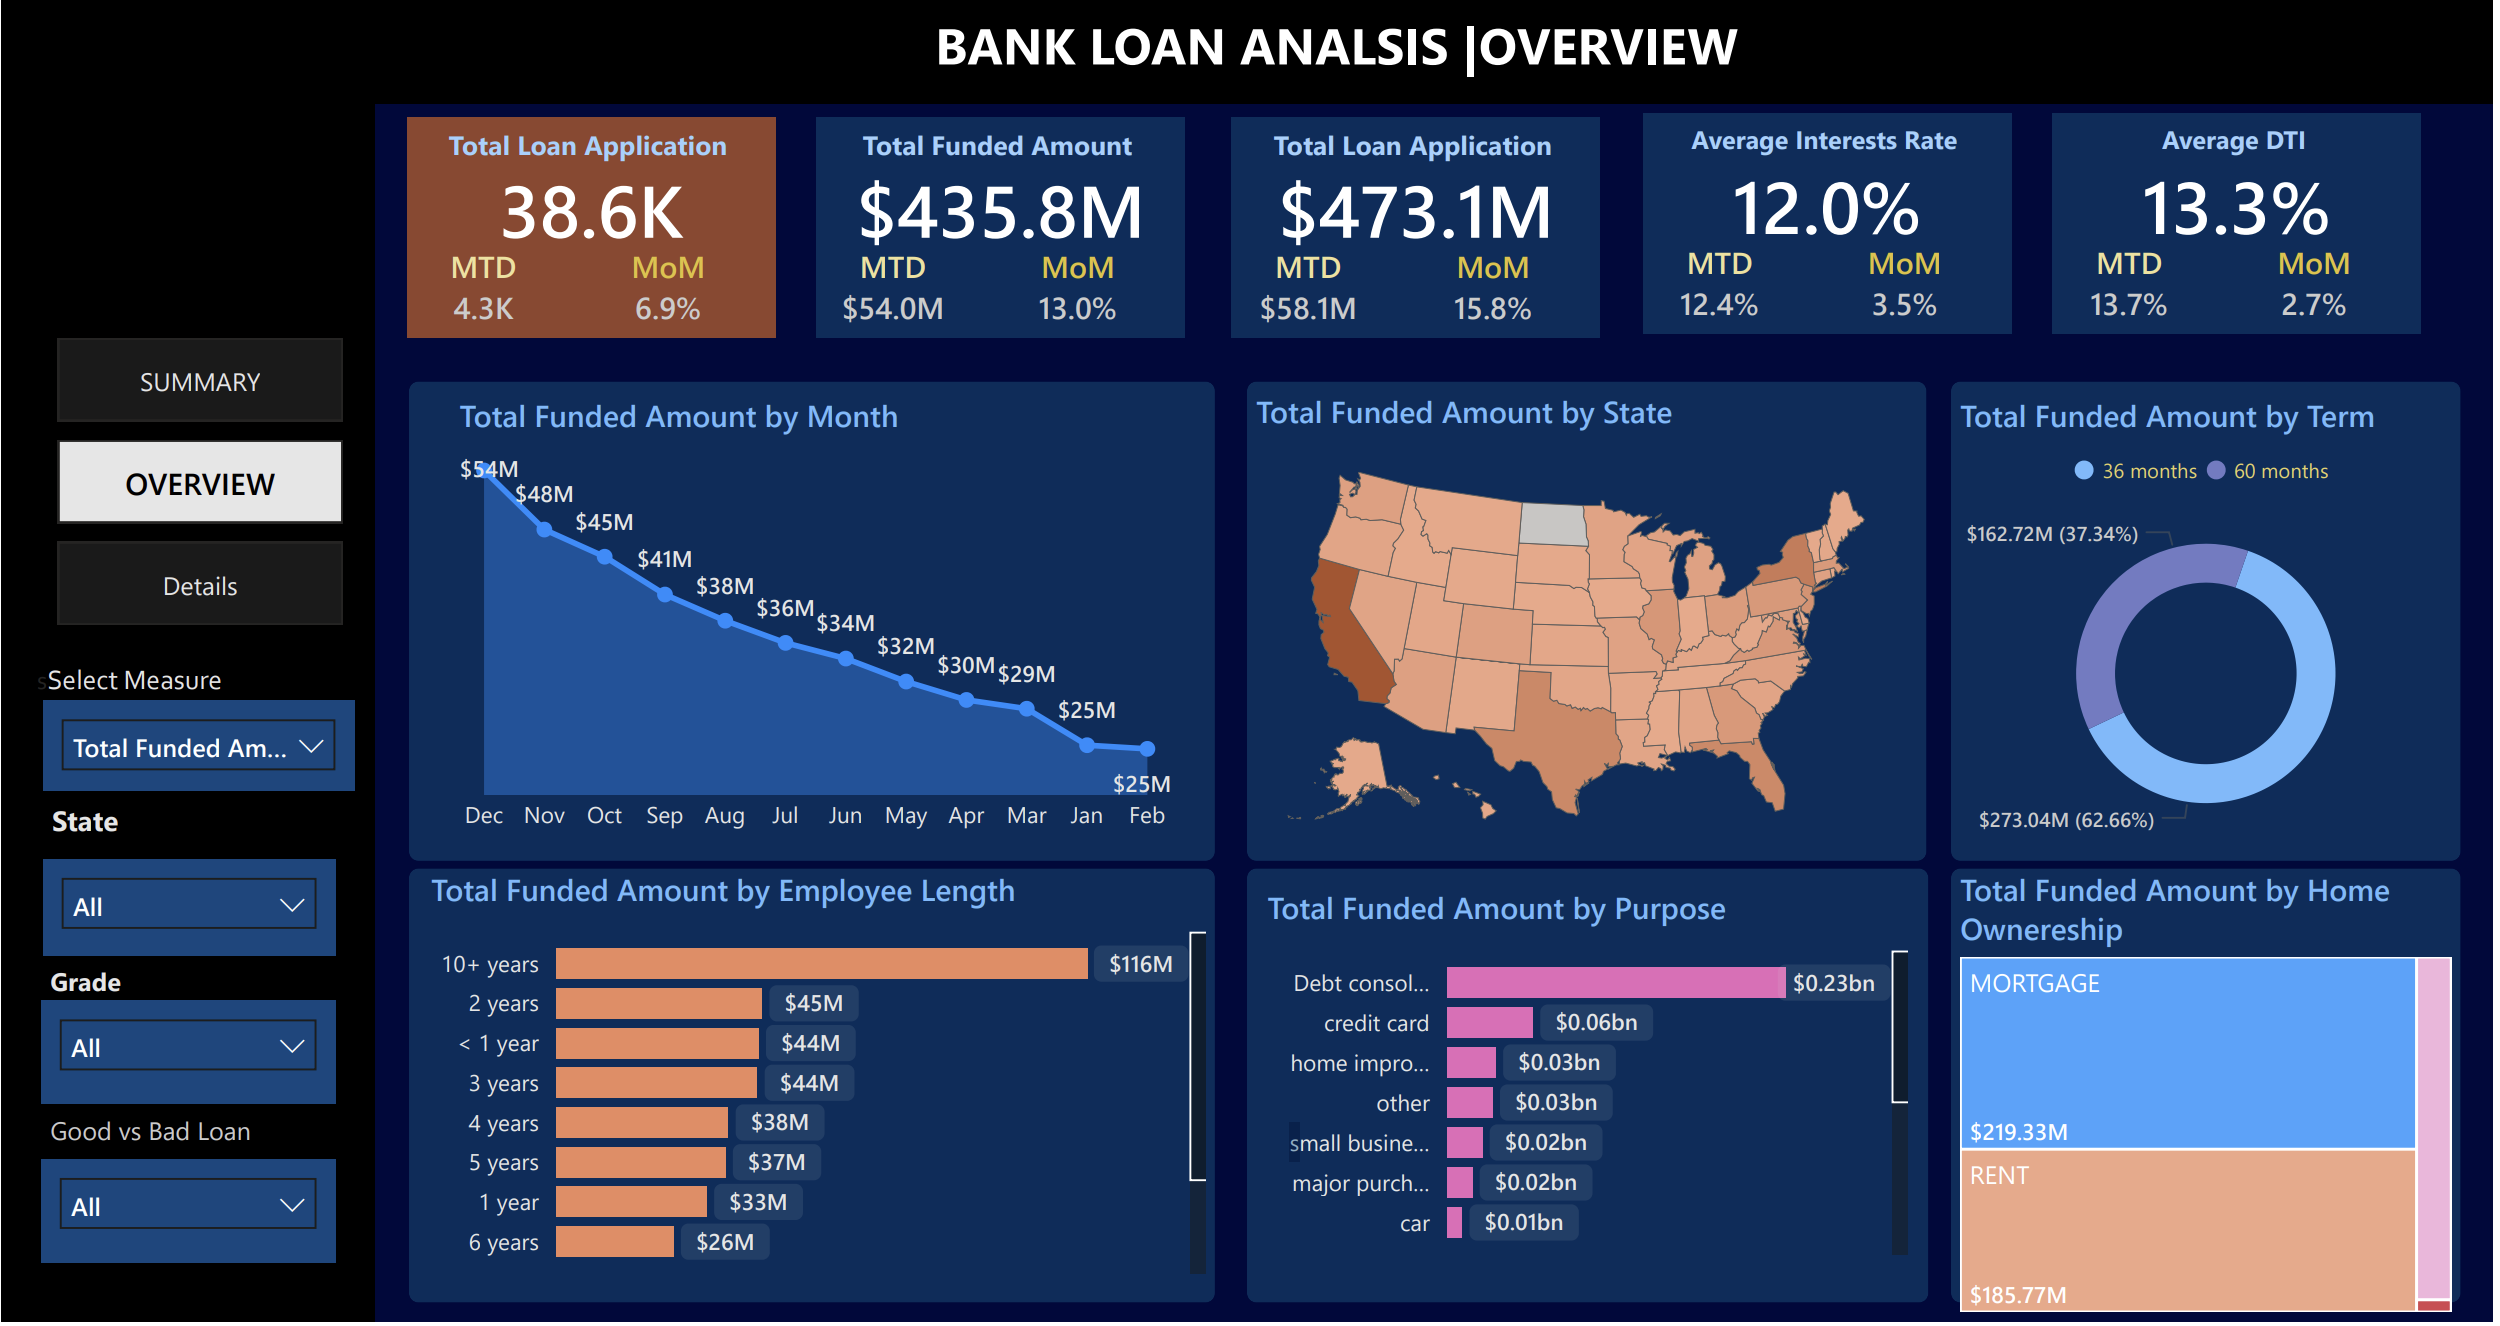

This screenshot's page, from the dashboard's own definition file:
{"tool":"powerbi","page":{"name":"OVERVIEW","canvas":[1320,700],"ordinal":1},"visuals":[{"type":"shape","box":[0,0,1319.9,54.8],"z":0},{"type":"shape","box":[0,0,198.2,700],"z":1000},{"type":"shape","box":[215.7,201.5,427.2,254.1],"z":2000},{"type":"textbox","box":[468.4,0,478.6,65.1],"z":3000},{"type":"shape","box":[870.1,60.4,195,117],"z":3000,"group":"g3"},{"type":"shape","box":[1086.5,60.4,195,117],"z":3000,"group":"g4"},{"type":"shape","box":[431.5,61.8,195,117],"z":3000,"group":"g1"},{"type":"shape","box":[652.2,61.8,195,117],"z":3000,"group":"g2"},{"type":"shape","box":[215.1,61.8,195,117],"z":4000},{"type":"card","fields":{"Values":["financial_loan.Avrage Interest Rate"]},"box":[870.1,79.2,195.2,59.3],"z":4000,"group":"g3"},{"type":"card","fields":{"Values":["financial_loan.Avg DTI"]},"box":[1086.5,79.2,195.2,59.3],"z":4000,"group":"g4"},{"type":"card","fields":{"Values":["financial_loan.totala loan amount"]},"box":[431.5,80.6,195.2,59.3],"z":4000,"group":"g1"},{"type":"card","fields":{"Values":["financial_loan.Total Amount Recived"]},"box":[652.2,80.6,195.2,59.3],"z":4000,"group":"g2"},{"type":"textbox","box":[877.3,60.4,177.8,36.1],"z":5000,"group":"g3"},{"type":"textbox","box":[1093.7,60.4,177.8,36.1],"z":5000,"group":"g4"},{"type":"textbox","box":[438.7,61.8,177.8,36.1],"z":5000,"group":"g1"},{"type":"textbox","box":[659.4,61.8,177.8,36.1],"z":5000,"group":"g2"},{"type":"card","fields":{"Values":["financial_loan.Total Loan Applicaton"]},"box":[215.1,80.6,195.2,59.3],"z":5000},{"type":"group","id":"g1","title":"Group 1","box":[431.5,61.8,195.4,116.7],"z":6000},{"type":"card","title":"MTD","fields":{"Values":["financial_loan.MTD Average Interest Rate"]},"box":[870.1,128.4,81,49.2],"z":6000,"group":"g3"},{"type":"card","title":"MTD","fields":{"Values":["financial_loan.MTD Avg DTI"]},"box":[1086.5,128.4,81,49.2],"z":6000,"group":"g4"},{"type":"card","title":"MTD","fields":{"Values":["financial_loan.MTD Funded Amount"]},"box":[431.5,129.8,81,49.2],"z":6000,"group":"g1"},{"type":"card","title":"MTD","fields":{"Values":["financial_loan.MTD Total Amount Recived"]},"box":[652.2,129.8,81,49.2],"z":6000,"group":"g2"},{"type":"textbox","box":[222.3,61.8,177.8,36.1],"z":7000},{"type":"card","title":"MoM","fields":{"Values":["financial_loan.MOM AVg int rate"]},"box":[968.4,128.4,81,49.2],"z":7000,"group":"g3"},{"type":"card","title":"MoM","fields":{"Values":["financial_loan.MOM Avg DTI"]},"box":[1184.8,128.4,81,49.2],"z":7000,"group":"g4"},{"type":"card","title":"MoM","fields":{"Values":["financial_loan.MoM Total Funded Amount"]},"box":[529.8,129.8,81,49.2],"z":7000,"group":"g1"},{"type":"card","title":"MoM","fields":{"Values":["financial_loan.MOM Total Amount Recived"]},"box":[750.5,129.8,81,49.2],"z":7000,"group":"g2"},{"type":"card","title":"MTD","fields":{"Values":["financial_loan.MTD Loan Application"]},"box":[215.1,129.8,81,49.2],"z":8000},{"type":"group","id":"g2","title":"Group 1","box":[652.2,61.8,195.4,116.7],"z":9000},{"type":"card","title":"MoM","fields":{"Values":["financial_loan.MOM Loan Application"]},"box":[313.4,129.8,81,49.2],"z":10000},{"type":"group","id":"g3","title":"Group 1","box":[870.1,60.4,195.4,118.1],"z":11000},{"type":"group","id":"g4","title":"Group 1","box":[1086.5,60.4,195.4,118.1],"z":12000},{"type":"slicer","fields":{"Values":["financial_loan.address_state"]},"box":[22.5,455.4,154.6,50.6],"z":13000},{"type":"textbox","box":[22.5,418.9,64.7,40.8],"z":14000},{"type":"slicer","fields":{"Values":["financial_loan.grade"]},"box":[21.1,529.9,156,54.8],"z":15000},{"type":"slicer","fields":{"Values":["financial_loan.Good v/s Bad Loan","financial_loan.purpose"]},"box":[21.1,614.3,156,54.8],"z":16000},{"type":"textbox","box":[21.1,506,78.7,46.4],"z":17000},{"type":"textbox","box":[21.3,584.8,156.1,39.7],"z":18000},{"type":"areaChart","fields":{"Category":["Date Table.Month"],"Y":["financial_loan.Total Funded Amount"]},"box":[238.5,208.6,386.1,241.3],"z":19000},{"type":"slicer","fields":{"Values":["Select Measure.Select Measure"]},"box":[22.5,371.1,164.5,47.8],"z":20000},{"type":"textbox","box":[14.1,345.8,172.9,38],"z":22000},{"type":"shape","box":[660,201.5,360,254.1],"z":22001},{"type":"shapeMap","fields":{"Category":["financial_loan.address_state"],"Value":["financial_loan.Total Funded Amount"]},"box":[660,207.2,349.2,248.4],"z":22002},{"type":"shape","box":[1033.3,201.5,269.7,254.1],"z":22003},{"type":"donutChart","fields":{"Category":["financial_loan.term"],"Y":["financial_loan.Total Funded Amount"]},"box":[1033.3,208.6,269.7,247],"z":22004},{"type":"shape","box":[215.7,459.9,427.2,229.9],"z":22005},{"type":"barChart","fields":{"Category":["financial_loan.emp_length"],"Y":["financial_loan.Total Funded Amount"]},"box":[222.8,459.9,420.1,220],"z":22006},{"type":"shape","box":[660,459.9,360.5,229.9],"z":22007},{"type":"barChart","fields":{"Category":["financial_loan.purpose"],"Y":["financial_loan.Total Funded Amount"]},"box":[665.7,469.8,349.2,200.1],"z":22008},{"type":"shape","box":[1033.3,459.9,269.7,229.9],"z":22009},{"type":"treemap","fields":{"Group":["financial_loan.home_ownership"],"Values":["financial_loan.Total Funded Amount"]},"box":[1033.3,459.9,269.7,239.9],"z":22010},{"type":"pageNavigator","box":[29.5,178.5,151.8,153.2],"z":22011}]}

Visuals, with their boxes in screenshot pixels (x1, y1, x2, y2), scaled from the page's 1320x700 canvas onto the 2500x1326 screenshot:
shape: 0 0 2499 104
shape: 0 0 375 1325
shape: 409 382 1218 863
textbox: 887 0 1794 123
shape: 1648 114 2017 336
shape: 2058 114 2427 336
shape: 817 117 1187 339
shape: 1235 117 1605 339
shape: 407 117 777 339
card - financial_loan.Avrage Interest Rate: 1648 150 2018 262
card - financial_loan.Avg DTI: 2058 150 2427 262
card - financial_loan.totala loan amount: 817 153 1187 265
card - financial_loan.Total Amount Recived: 1235 153 1605 265
textbox: 1662 114 1998 183
textbox: 2071 114 2408 183
textbox: 831 117 1168 185
textbox: 1249 117 1586 185
card - financial_loan.Total Loan Applicaton: 407 153 777 265
"Group 1" group: 817 117 1187 338
"MTD" card: 1648 243 1801 336
"MTD" card: 2058 243 2211 336
"MTD" card: 817 246 971 339
"MTD" card: 1235 246 1389 339
textbox: 421 117 758 185
"MoM" card: 1834 243 1988 336
"MoM" card: 2244 243 2397 336
"MoM" card: 1003 246 1157 339
"MoM" card: 1421 246 1575 339
"MTD" card: 407 246 561 339
"Group 1" group: 1235 117 1605 338
"MoM" card: 594 246 747 339
"Group 1" group: 1648 114 2018 338
"Group 1" group: 2058 114 2428 338
slicer - financial_loan.address_state: 43 863 335 959
textbox: 43 794 165 871
slicer - financial_loan.grade: 40 1004 335 1108
slicer - financial_loan.Good v/s Bad Loan x financial_loan.purpose: 40 1164 335 1267
textbox: 40 959 189 1046
textbox: 40 1108 336 1183
areaChart - Date Table.Month x financial_loan.Total Funded Amount: 452 395 1183 852
slicer - Select Measure.Select Measure: 43 703 354 794
textbox: 27 655 354 727
shape: 1250 382 1932 863
shapeMap - financial_loan.address_state x financial_loan.Total Funded Amount: 1250 392 1911 863
shape: 1957 382 2468 863
donutChart - financial_loan.term x financial_loan.Total Funded Amount: 1957 395 2468 863
shape: 409 871 1218 1307
barChart - financial_loan.emp_length x financial_loan.Total Funded Amount: 422 871 1218 1288
shape: 1250 871 1933 1307
barChart - financial_loan.purpose x financial_loan.Total Funded Amount: 1261 890 1922 1269
shape: 1957 871 2468 1307
treemap - financial_loan.home_ownership x financial_loan.Total Funded Amount: 1957 871 2468 1325
pageNavigator: 56 338 343 628
